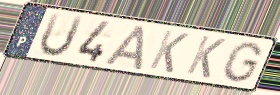4: (74, 19, 112, 64)
A: (102, 23, 148, 72)
G: (219, 40, 266, 84)
K: (183, 33, 228, 80), (146, 28, 191, 75)
U: (38, 11, 86, 59)
